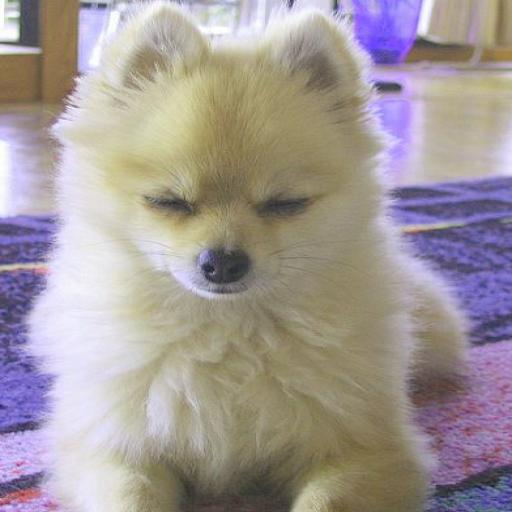dog_face: (82, 24, 357, 294)
